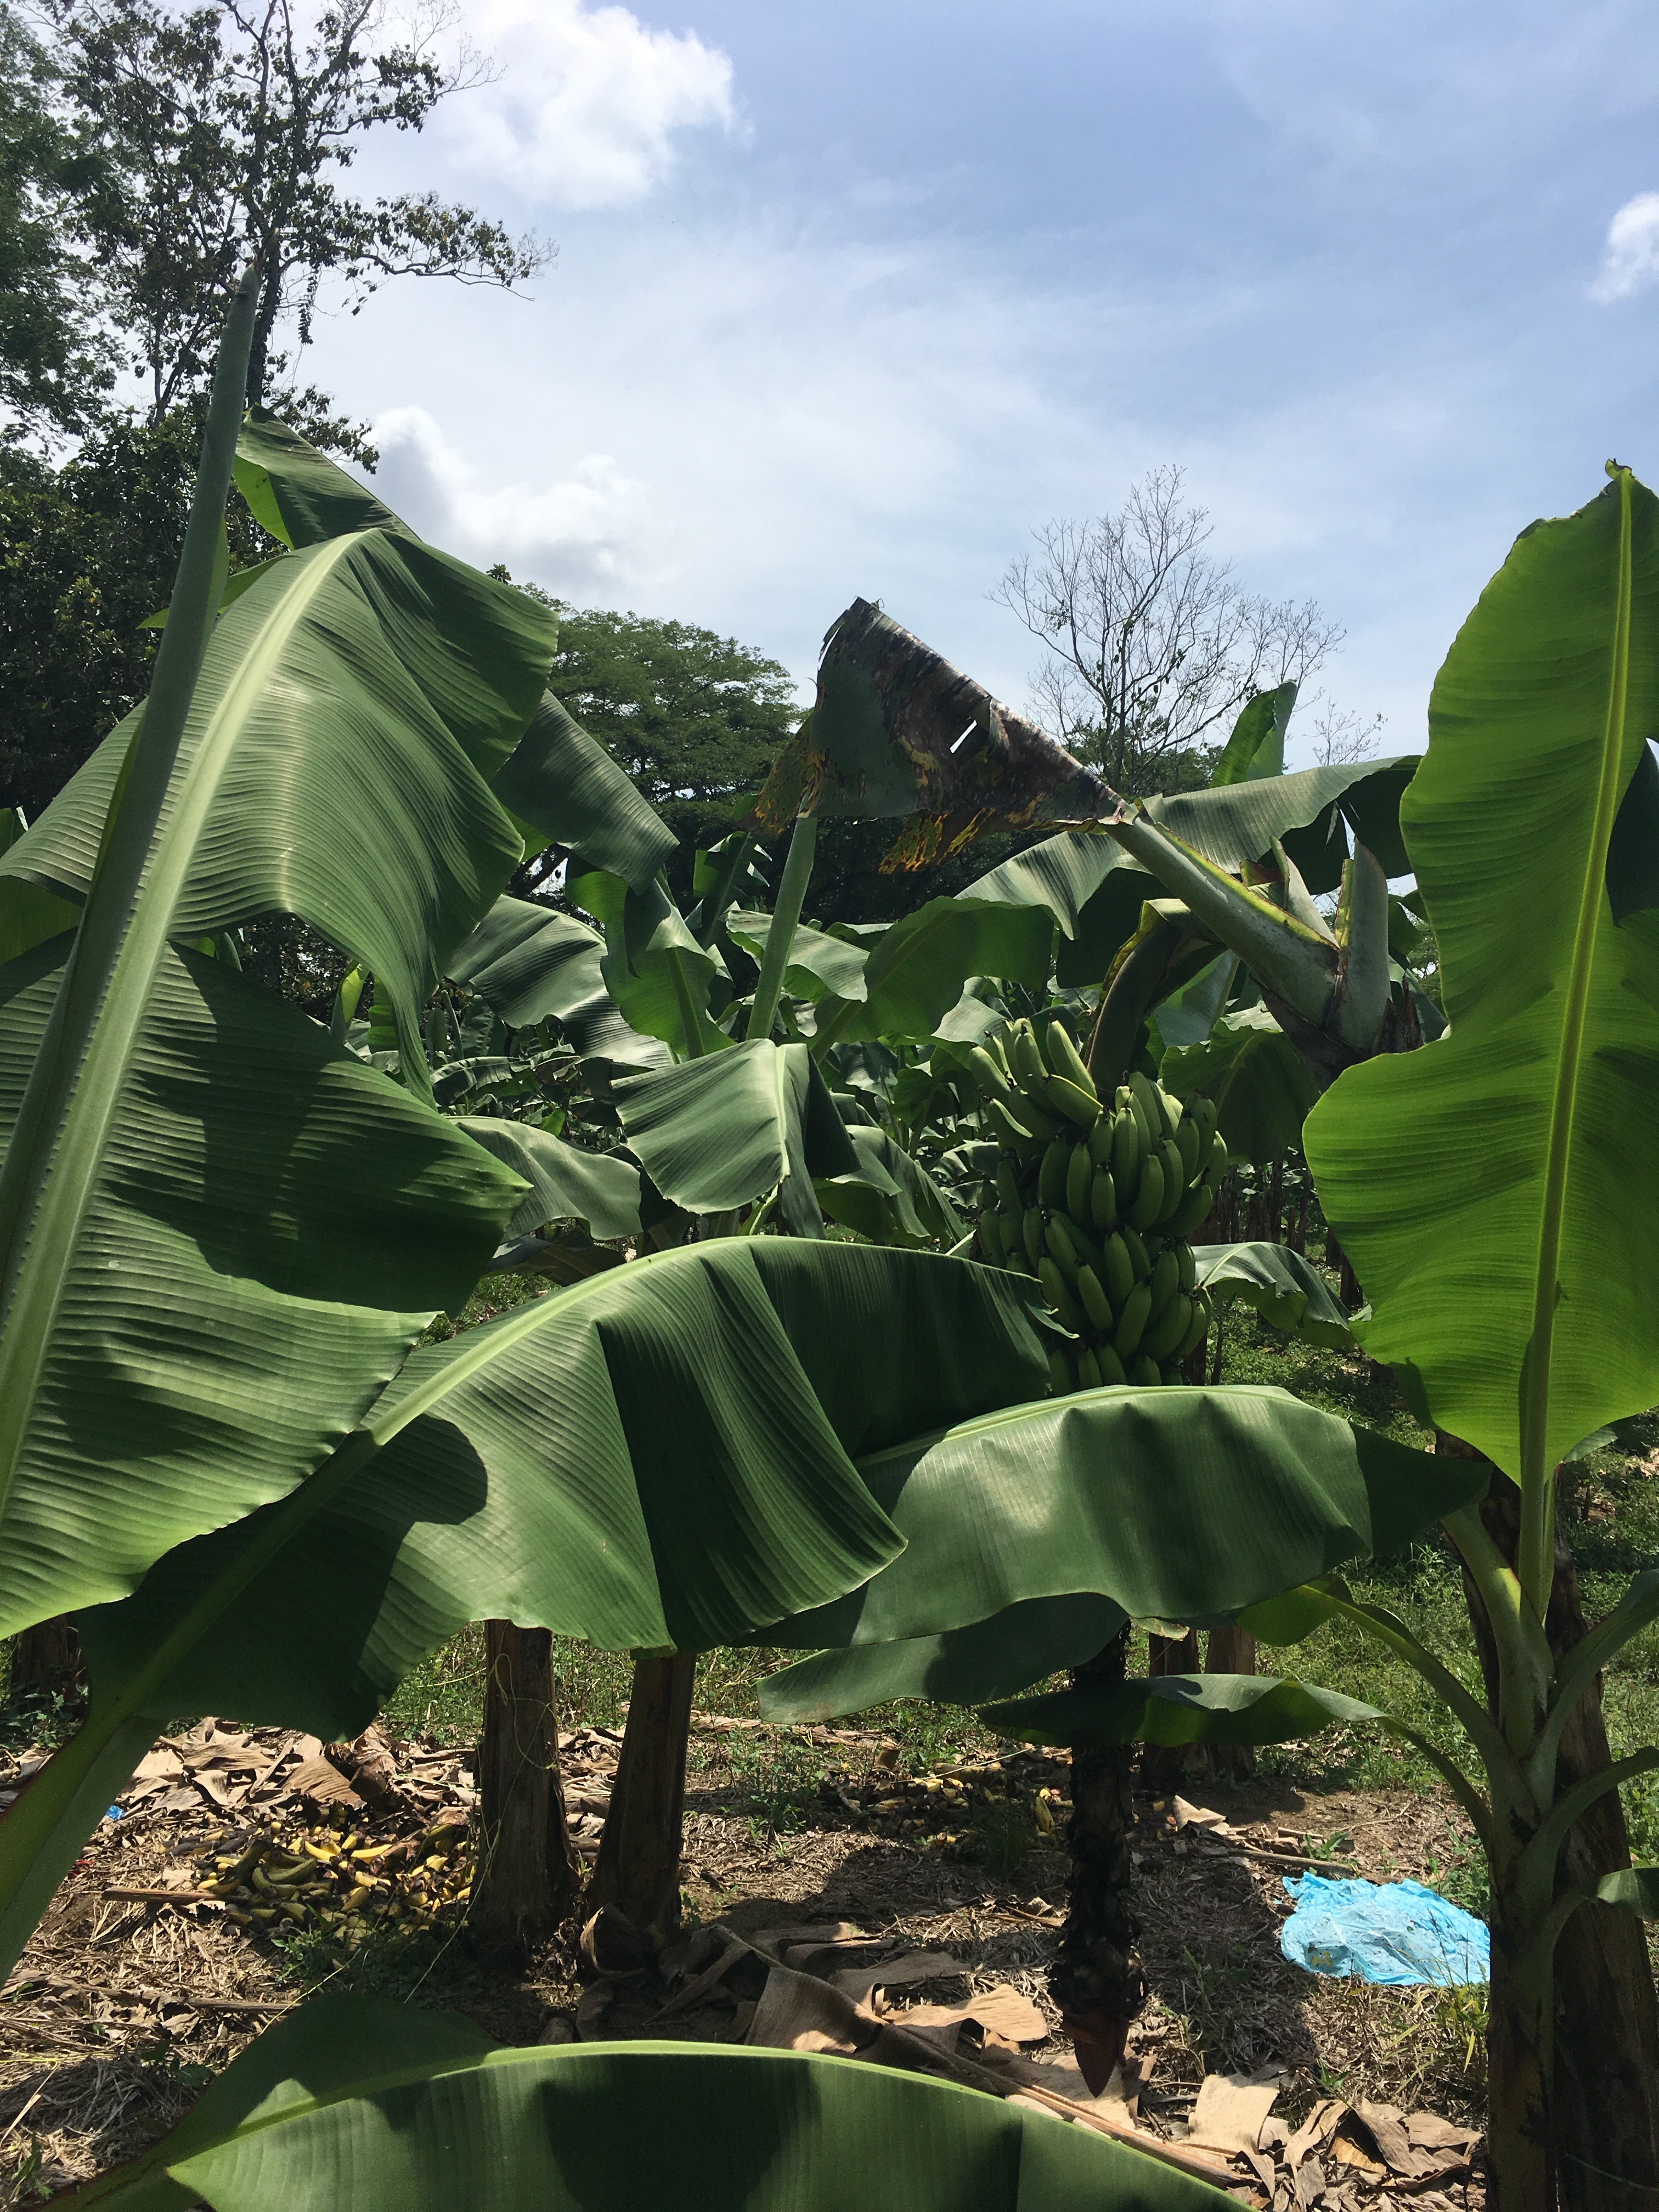candleleafs: (0, 233, 270, 1233)
